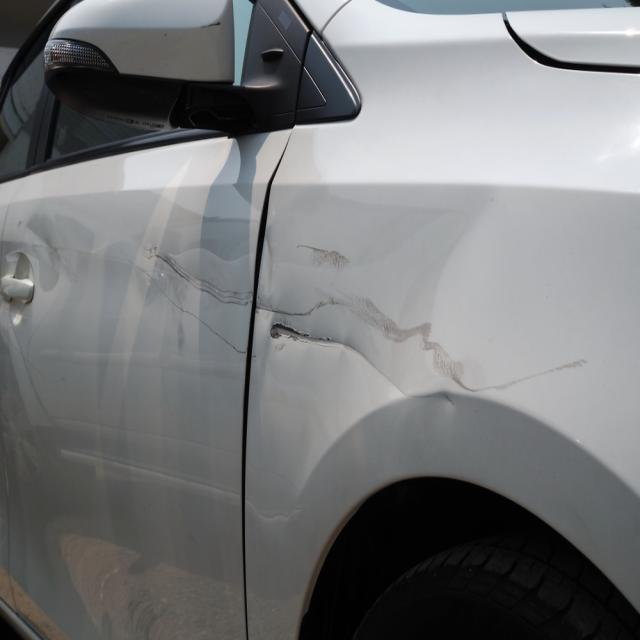dent: (258, 181, 497, 421)
scratch: (137, 236, 254, 360), (459, 354, 592, 397)
